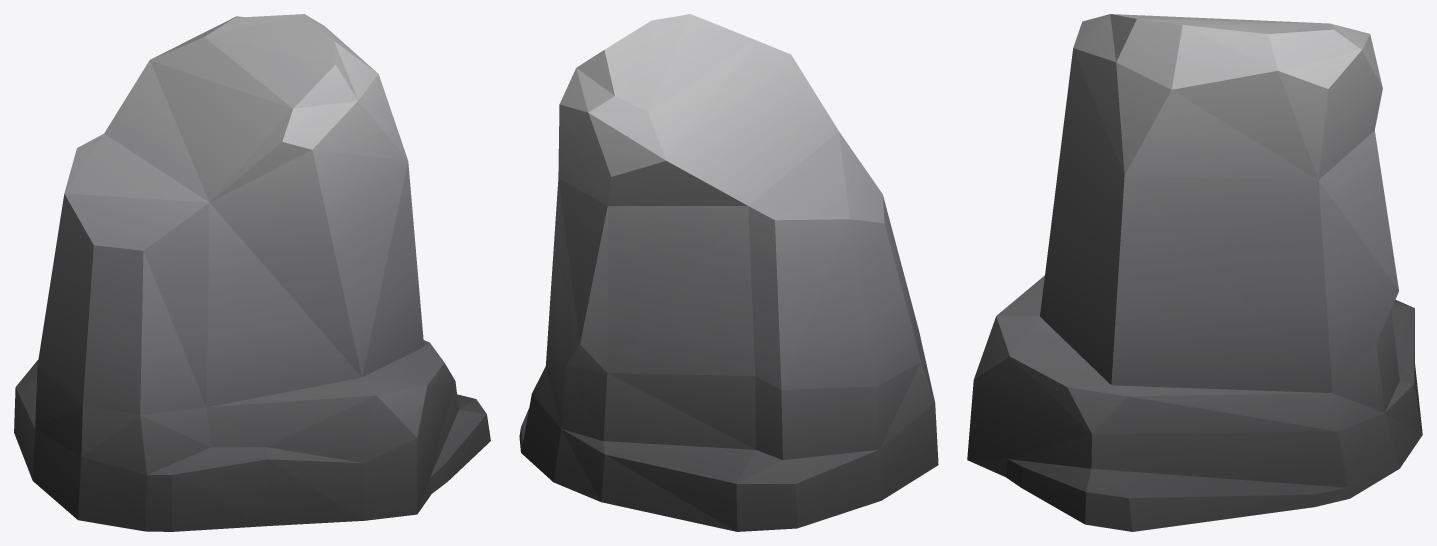
File: RockCliff-02.FBX
The picture shows the model from 3 angles, left to right: view 1: azimuth 30°, elevation 25°; view 2: azimuth 150°, elevation 25°; view 3: azimuth 270°, elevation 25°; orthographic projection. The views are drawn at different scales.
Parts seen in each view (by area): view 1: RockCliff-02; view 2: RockCliff-02; view 3: RockCliff-02.
Boxes of the visible parts, x1,y1,x2,y2 form: RockCliff-02: (14,14,490,531); RockCliff-02: (519,14,938,531); RockCliff-02: (967,14,1422,531).
Bounding box in the file's own units: 1500 × 1441 × 1345.
1 material, 1 textured.
